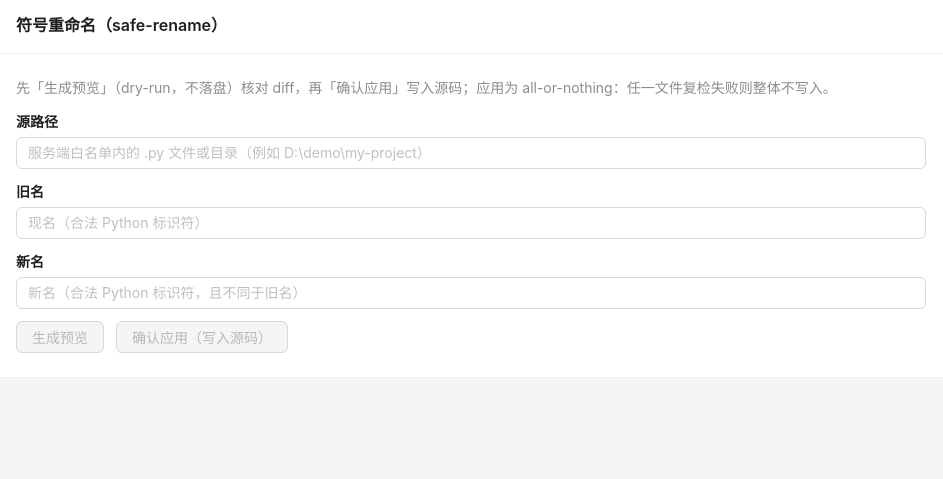
Test: RenameTool › 预览 400（plan 拒绝）：展示服务端中文 detail，应用按钮保持禁用
Step 1. Type "D:\\demo\\my-project" into the field with placeholder "服务端白名单内的 .py 文件或目录（例如 D:\\demo\\my-project）" → (463, 153), box [28,142,898,164]
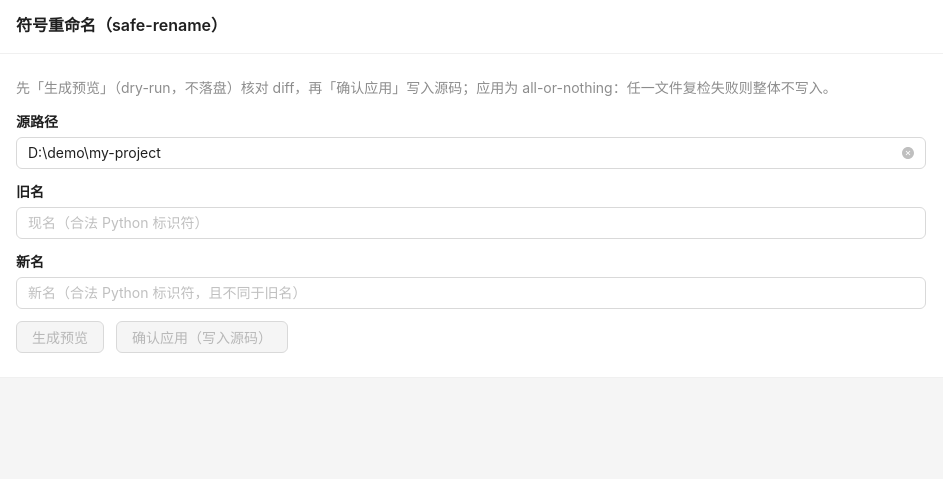
Step 2. Type "old_name" into the field with placeholder "现名（合法 Python 标识符）" → (463, 223), box [28,212,898,234]
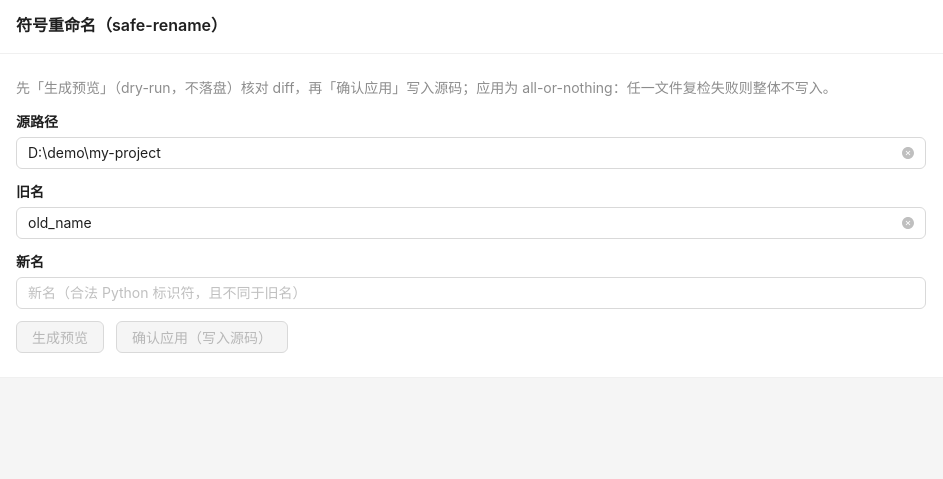
Step 3. Type "new_name" into the field with placeholder "新名（合法 Python 标识符，且不同于旧名）" → (463, 293), box [28,282,898,304]
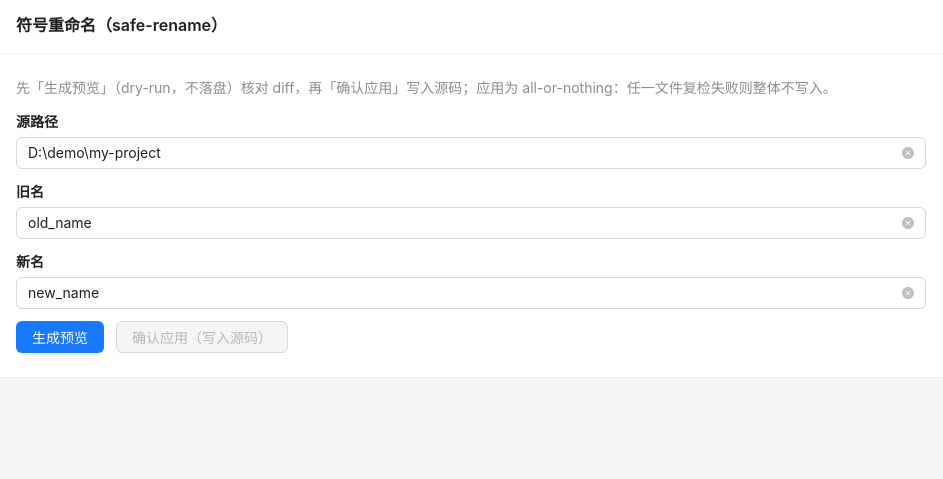
Step 4. Click the button "生成预览" → (60, 337), box [16,321,104,353]
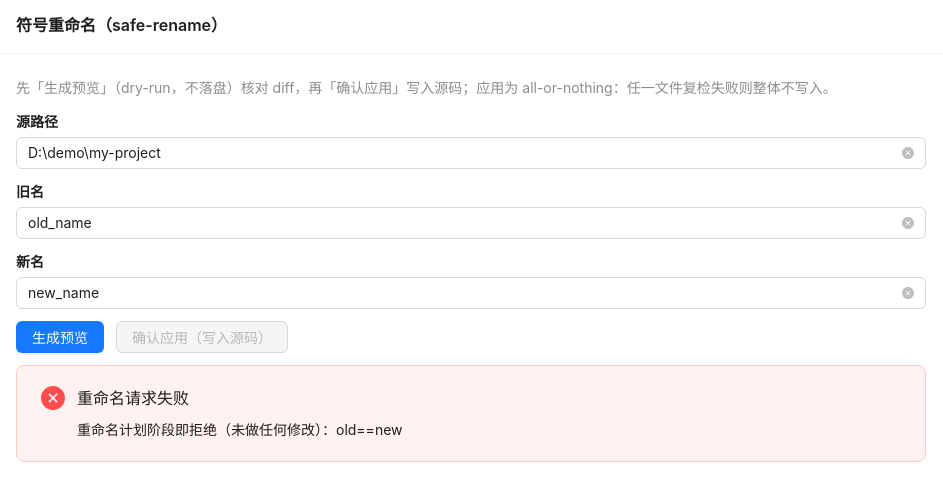
Expected: the button "确认应用（写入源码）" is disabled, [116,321,288,353]
Result: the text "重命名计划阶段即拒绝（未做任何修改）：old==new" is shown at [77,421,402,438]
